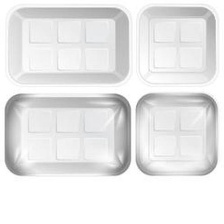foam_box: (0, 0, 134, 91), (0, 90, 134, 178), (134, 0, 221, 87), (134, 90, 220, 177)
